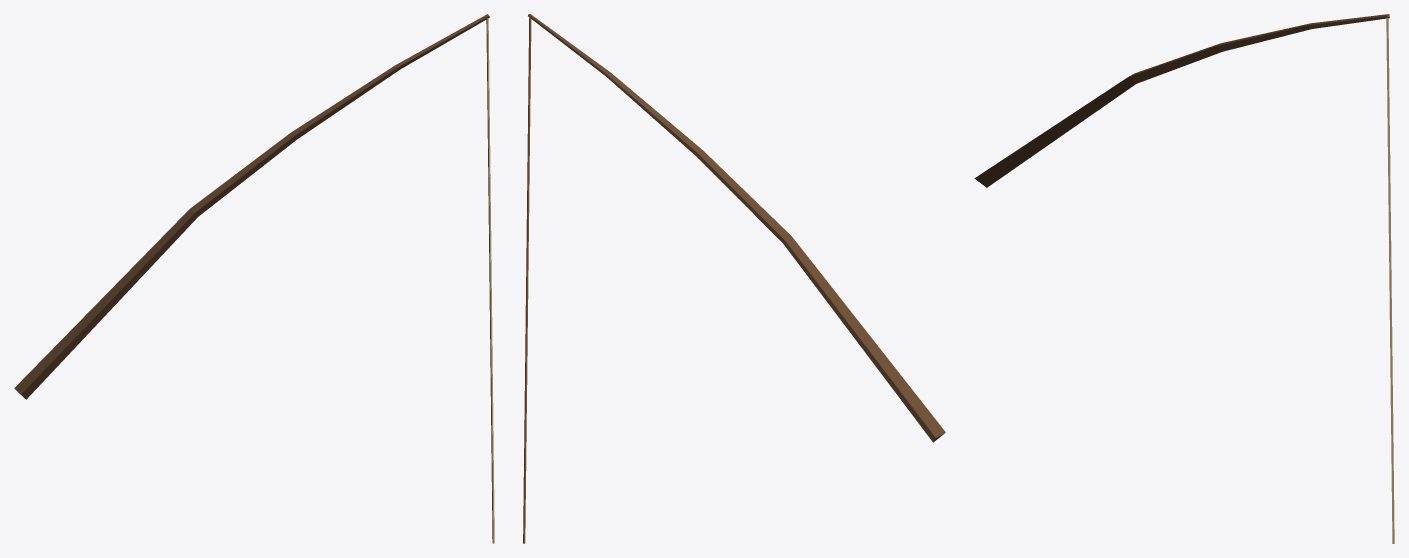
File: Fishing_Rod_mat.fbx
3 views of the same model, side by side, from view 1: azimuth 30°, elevation 25°; view 2: azimuth 150°, elevation 25°; view 3: azimuth 330°, elevation 25° (orthographic).
Parts seen in each view (by area): view 1: Fishing_Rod_mat; view 2: Fishing_Rod_mat; view 3: Fishing_Rod_mat.
Part boxes in pixels (<box>): Fishing_Rod_mat: <box>14,14,494,543</box>; Fishing_Rod_mat: <box>523,14,945,543</box>; Fishing_Rod_mat: <box>974,14,1394,543</box>.
Size of the model in its own units: 42.04 by 47.53 by 5.7.
